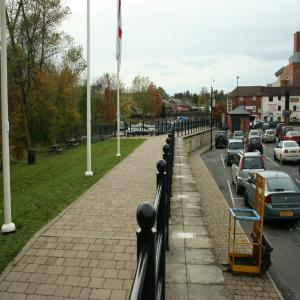Vehicle-registration-plate: (281, 212, 294, 217)
